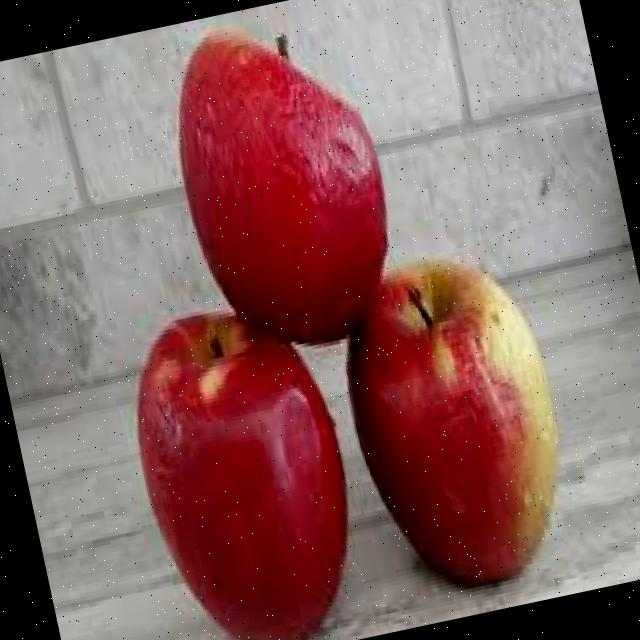overripe: (324, 233, 590, 604), (106, 283, 380, 640), (150, 0, 414, 359)
